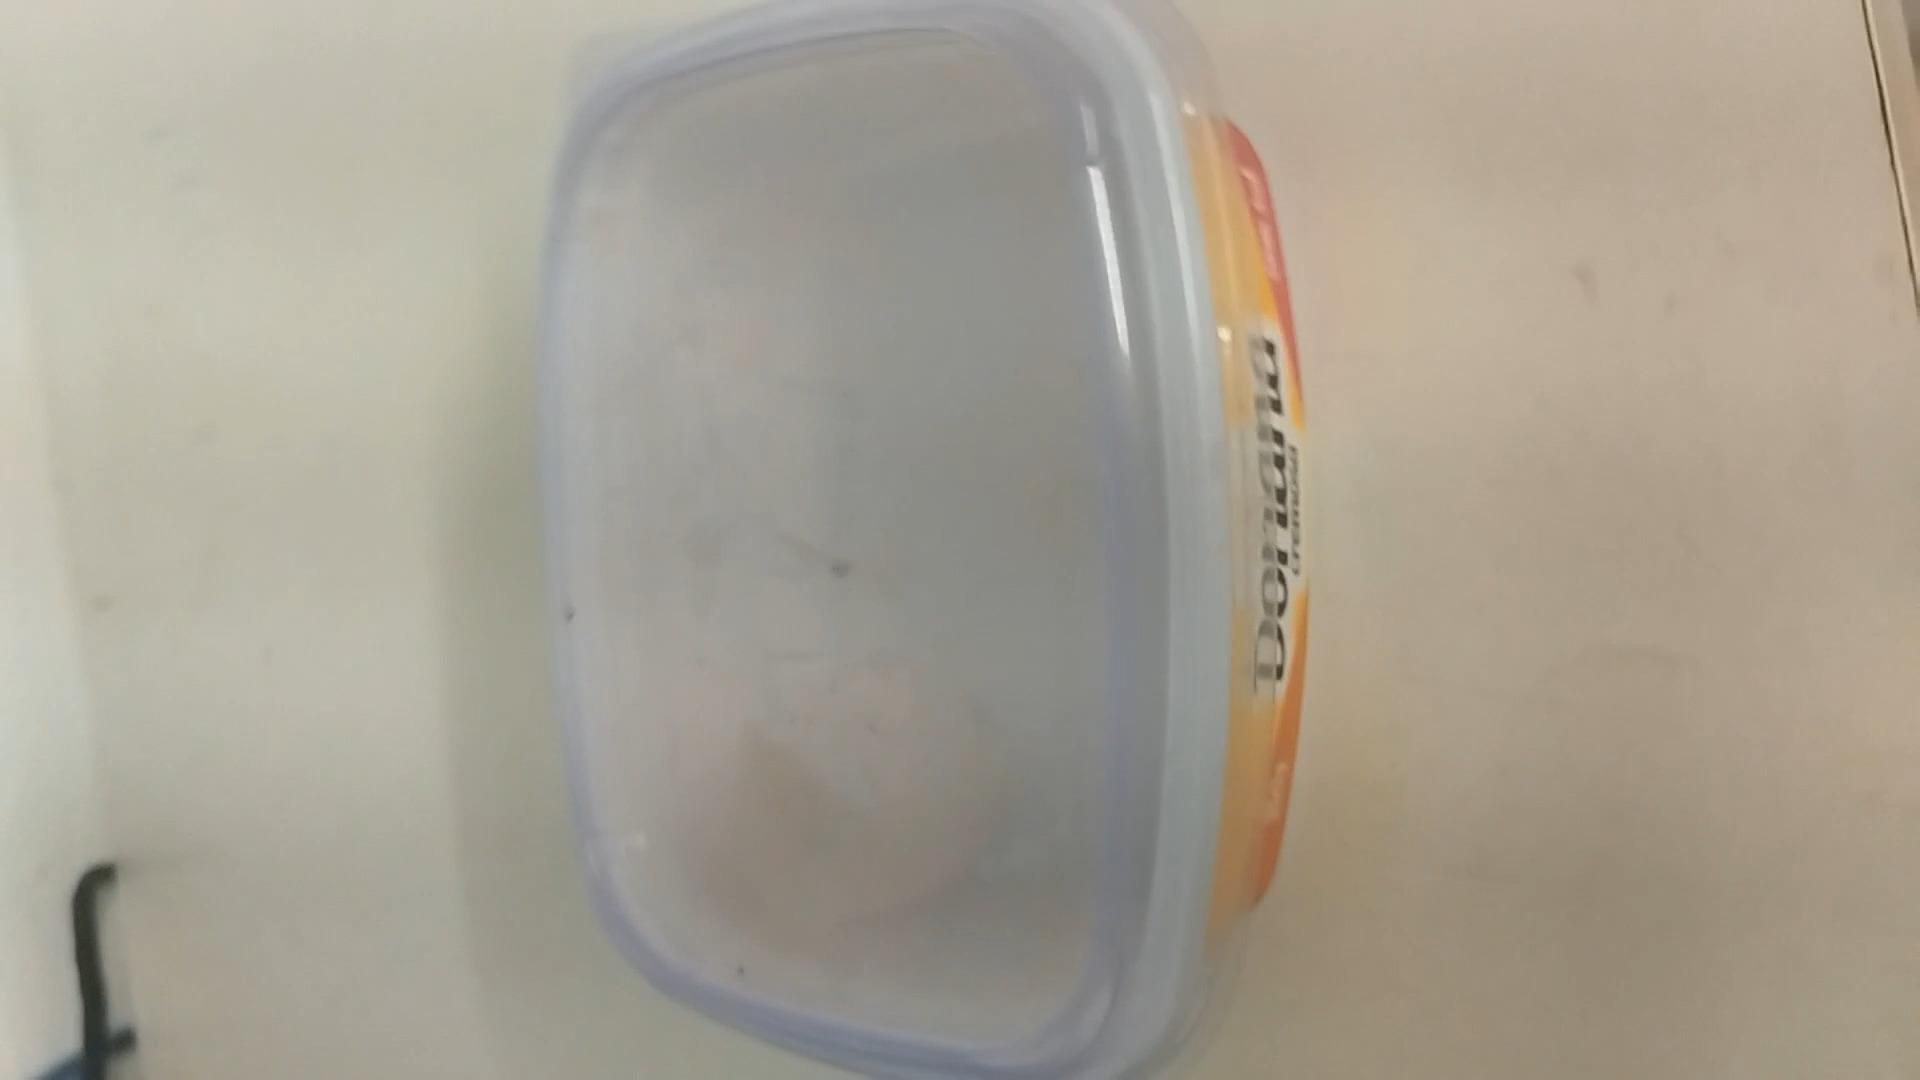butter: (553, 7, 1328, 1072)
